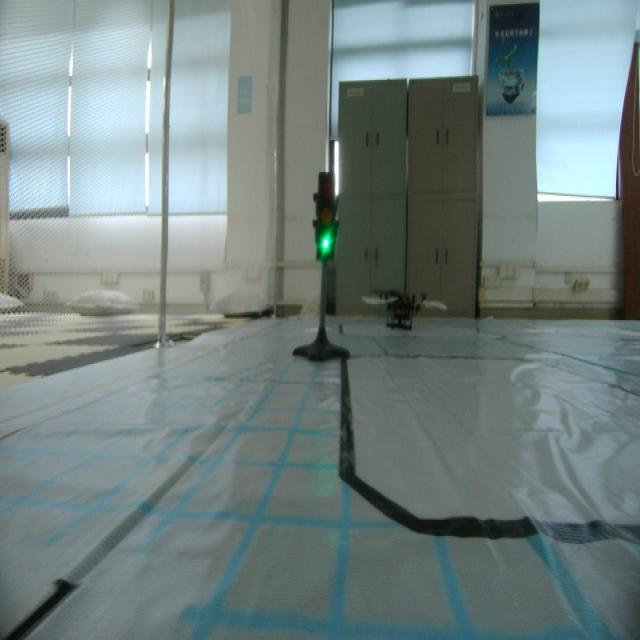green: (313, 171, 341, 265)
